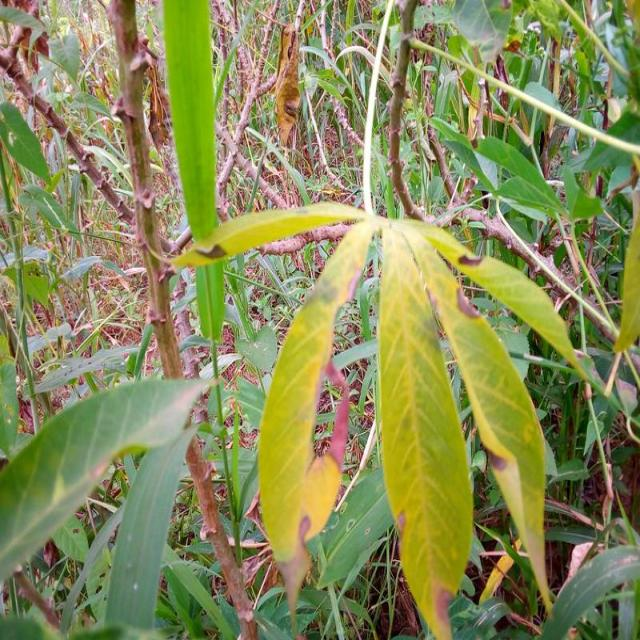cassava leaf: (174, 202, 587, 636), (0, 374, 205, 584), (376, 220, 474, 638)
